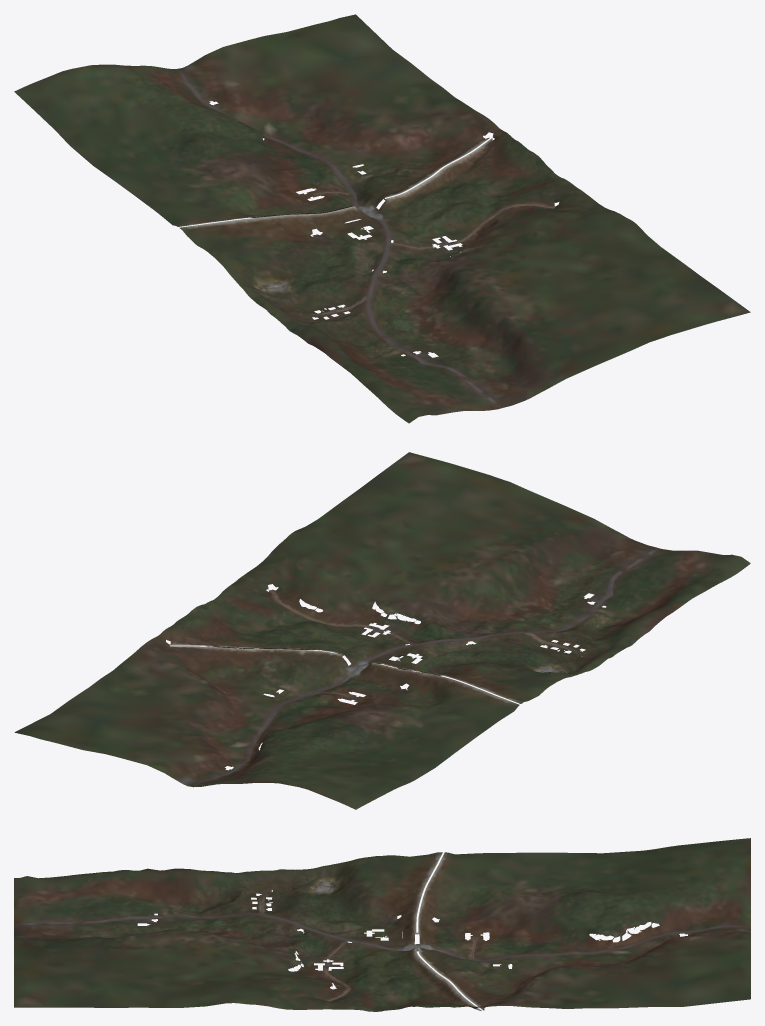
The model's file is cordongroundVTXcolorUnwrap.fbx.
The picture shows the model from 3 angles, top to bottom: view 1: azimuth 30°, elevation 25°; view 2: azimuth 150°, elevation 25°; view 3: azimuth 270°, elevation 25°; orthographic projection. The views are drawn at different scales.
Visible parts, largest first — view 1: levels\escape_asfalt/terrain\terrain_escape.chunk1, levels\escape_asfalt/terrain\terrain_escape.chunk2; view 2: levels\escape_asfalt/terrain\terrain_escape.chunk1, levels\escape_asfalt/terrain\terrain_escape.chunk2; view 3: levels\escape_asfalt/terrain\terrain_escape.chunk2, levels\escape_asfalt/terrain\terrain_escape.chunk1.
Part boxes in pixels (x1,y1,x2,y2): levels\escape_asfalt/terrain\terrain_escape.chunk1: (208, 168, 750, 423); levels\escape_asfalt/terrain\terrain_escape.chunk2: (14, 14, 548, 251); levels\escape_asfalt/terrain\terrain_escape.chunk1: (207, 452, 750, 686); levels\escape_asfalt/terrain\terrain_escape.chunk2: (14, 602, 548, 809); levels\escape_asfalt/terrain\terrain_escape.chunk2: (390, 838, 750, 1010); levels\escape_asfalt/terrain\terrain_escape.chunk1: (14, 855, 389, 1011).
Bounding box in the file's own units: 72210 × 12083 × 144546.
